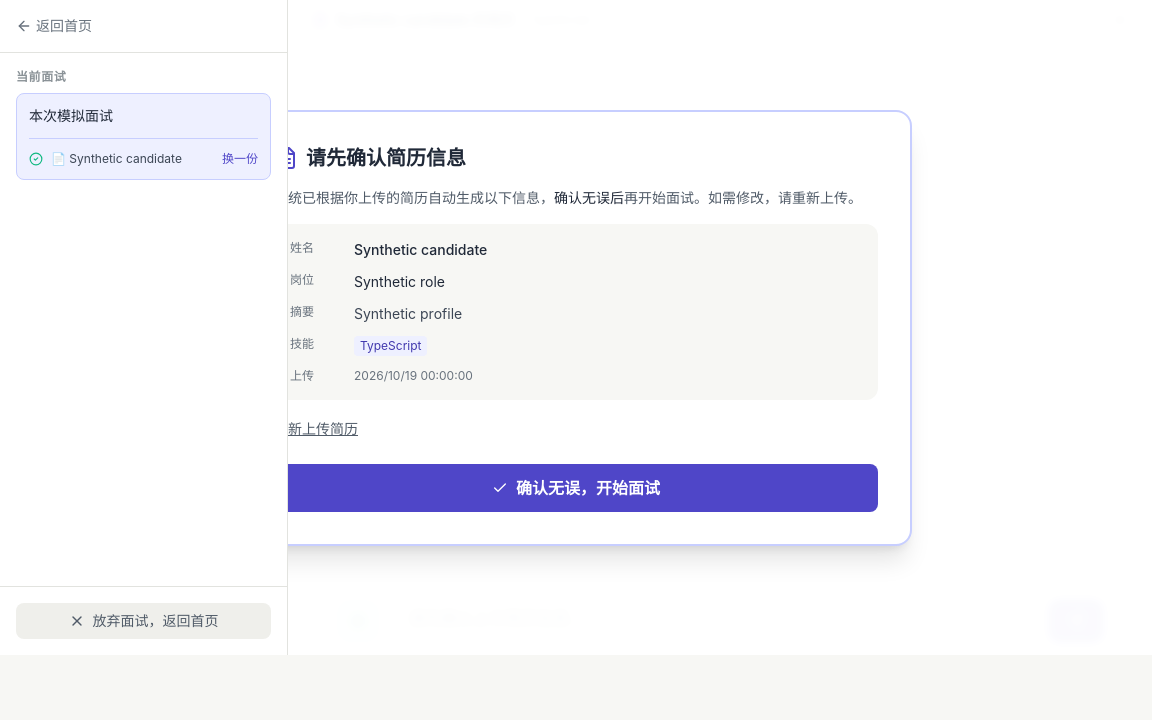
Interview resume confirmation receipt › keeps the interview locked on HTML gateway failure and displays a recoverable error
Click the button "确认无误，开始面试".
click(576, 488)  # box x1=274 y1=464 x2=878 y2=512
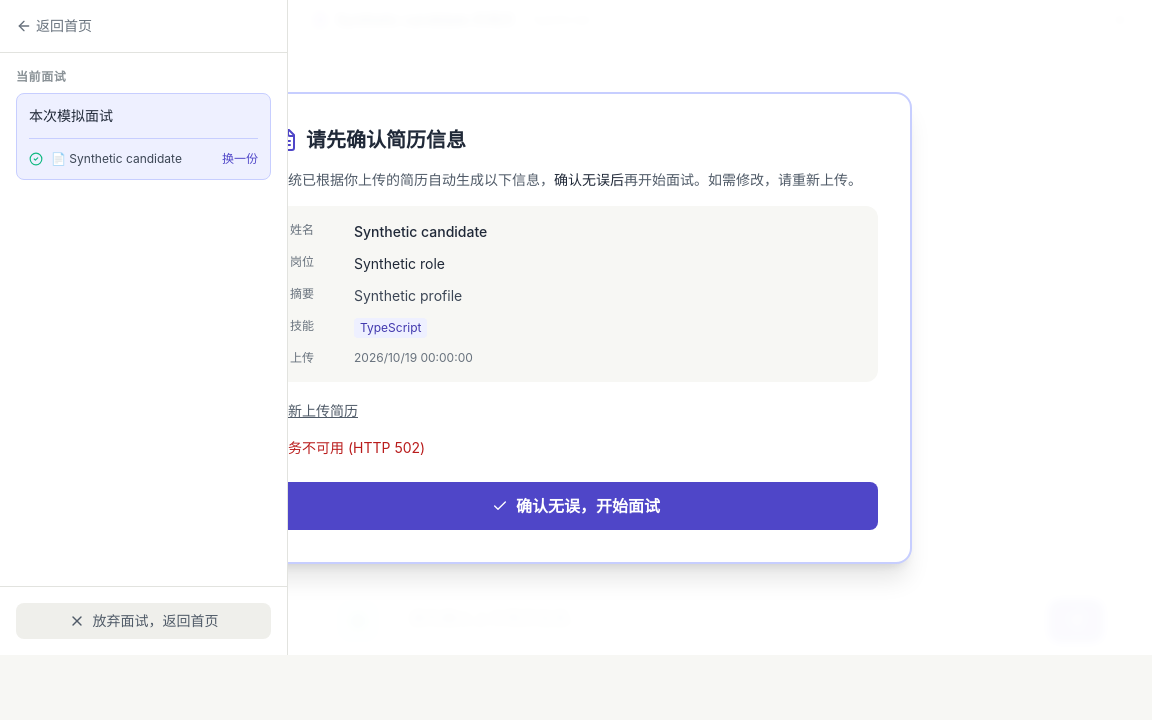
Expected: the button "确认无误，开始面试" is enabled, x1=274 y1=482 x2=878 y2=530
Now the message reads "服务不可用 (HTTP 502)", box x1=274 y1=438 x2=425 y2=456
